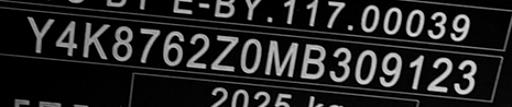letter: (262, 39, 300, 78), (424, 55, 454, 95), (80, 21, 110, 60), (210, 33, 240, 72), (298, 43, 328, 82), (26, 14, 54, 54), (136, 26, 162, 67), (54, 18, 80, 57), (185, 30, 211, 69), (160, 28, 184, 69), (453, 57, 477, 98), (352, 49, 378, 86), (378, 51, 404, 88), (110, 24, 134, 63), (328, 45, 352, 84), (238, 37, 262, 74), (406, 54, 424, 91)
